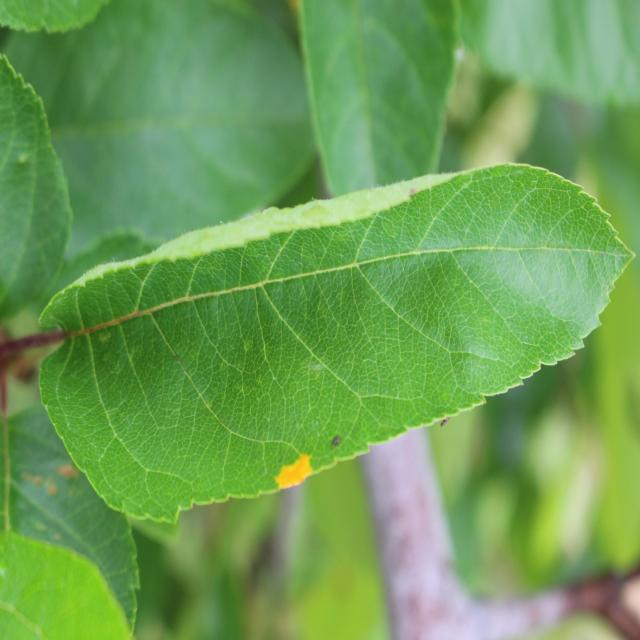Rust: (260, 446, 326, 501)
